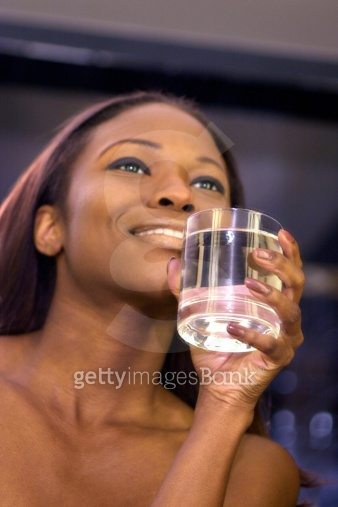glass of water: (176, 212, 284, 351)
